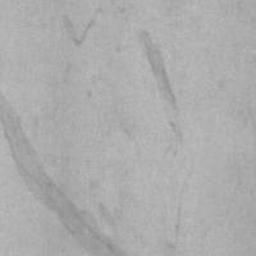Water spot: (0, 86, 132, 256), (137, 26, 186, 146)
